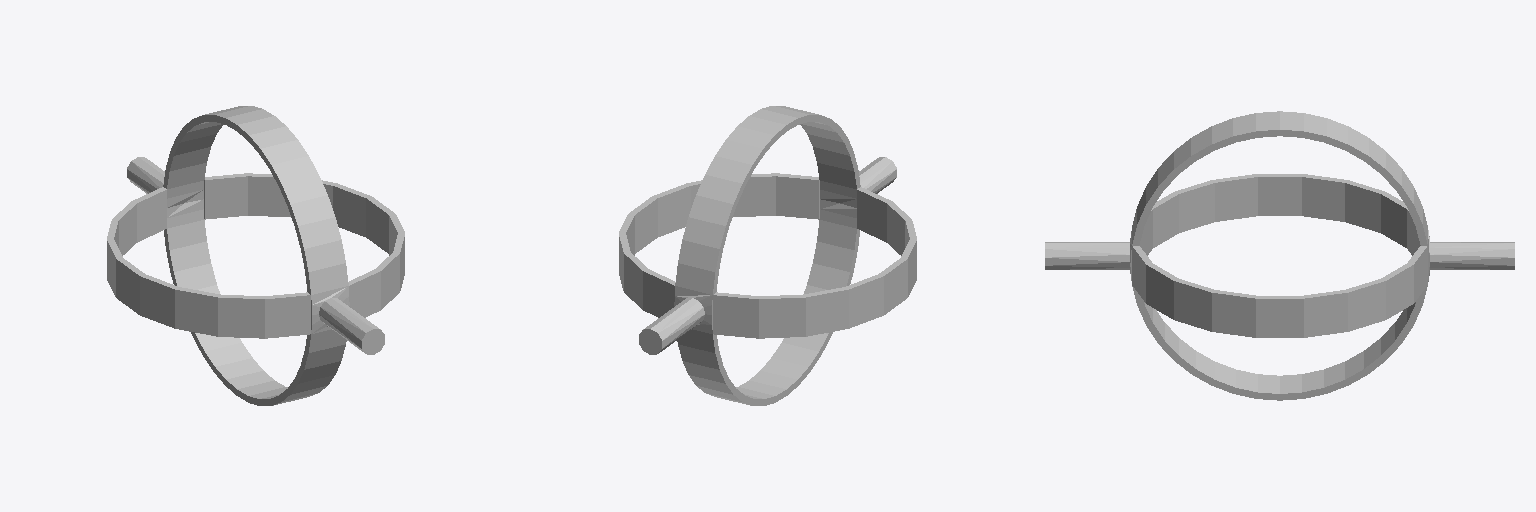
The picture shows the model from 3 angles: view 1: azimuth 30°, elevation 25°; view 2: azimuth 150°, elevation 25°; view 3: azimuth 270°, elevation 25°; orthographic projection.
Parts seen in each view (by area): view 1: gi; view 2: gi; view 3: gi.
Part boxes in pixels (left/top/right/bottom): gi: left=107, top=106, right=404, bottom=405; gi: left=619, top=106, right=916, bottom=405; gi: left=1045, top=111, right=1514, bottom=400.
Bounding box in the file's own units: 40.84 × 41.36 × 65.